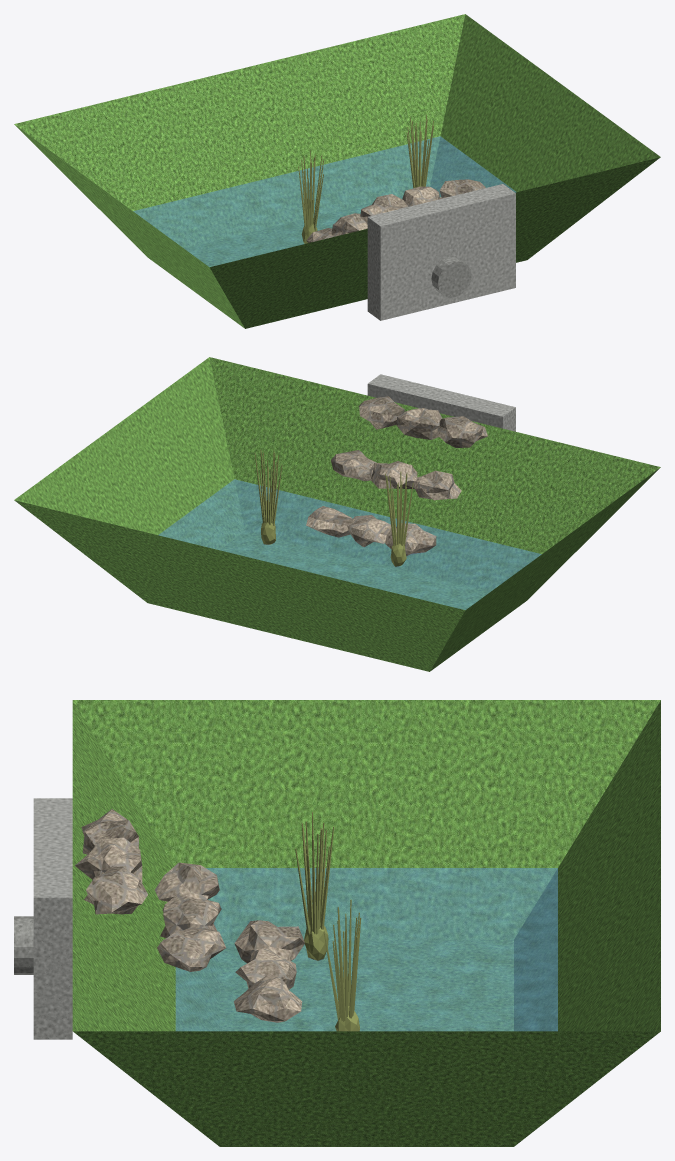
The picture shows the model from 3 angles, top to bottom: view 1: azimuth 30°, elevation 25°; view 2: azimuth 150°, elevation 25°; view 3: azimuth 270°, elevation 25°; orthographic projection. The views are drawn at different scales.
Visible parts, largest first — view 1: water.retention_basin (×5), retencija-trska (×2); view 2: water.retention_basin (×4), retencija-trska (×2); view 3: water.retention_basin (×5), retencija-trska (×2).
Part boxes in pixels (x1,y1,x2,y2): water.retention_basin (×5): (14, 14, 660, 328); retencija-trska (×2): (298, 114, 433, 243); water.retention_basin (×4): (14, 357, 660, 671); retencija-trska (×2): (254, 450, 413, 566); water.retention_basin (×5): (14, 700, 660, 1146); retencija-trska (×2): (295, 812, 361, 1031).
Size of the model in its own units: 4 by 3.3 by 1.11.
Materials: 6 (5 with a texture image).
